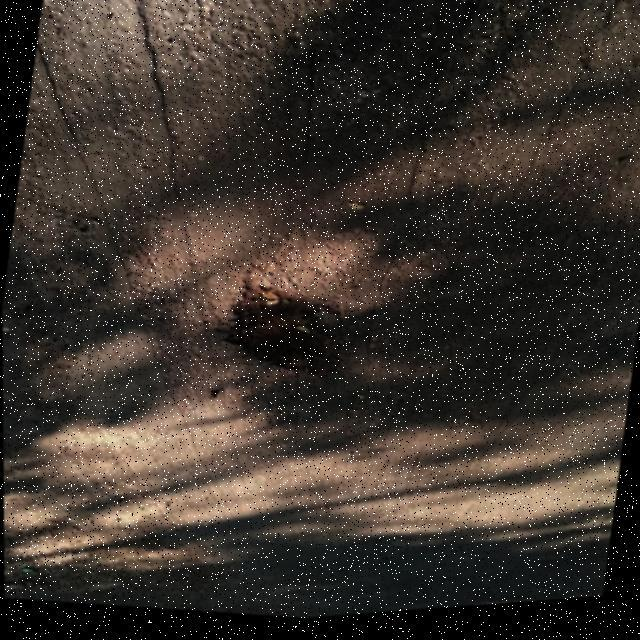pothole: (208, 261, 366, 403)
